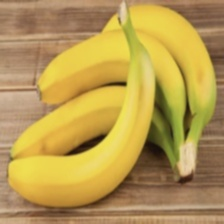banana: (16, 8, 195, 200)
